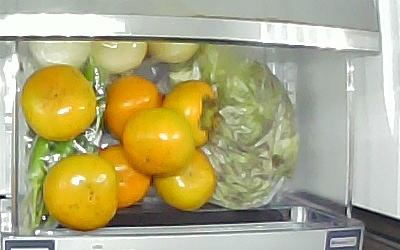persimmon: (20, 64, 96, 143), (42, 154, 118, 231), (123, 109, 195, 179), (155, 148, 218, 213), (164, 79, 220, 150), (105, 75, 162, 142), (98, 144, 151, 209)
